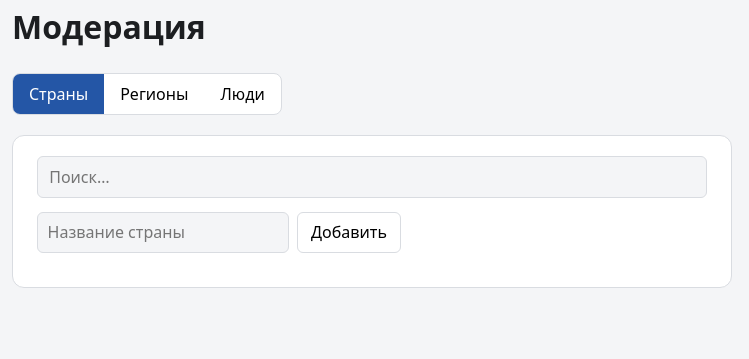
Scenario: Moderation page › switches to the persons tab and loads persons
Click the tab "Люди".
click(243, 94)  # box top-left (204, 74), bottom-right (281, 114)
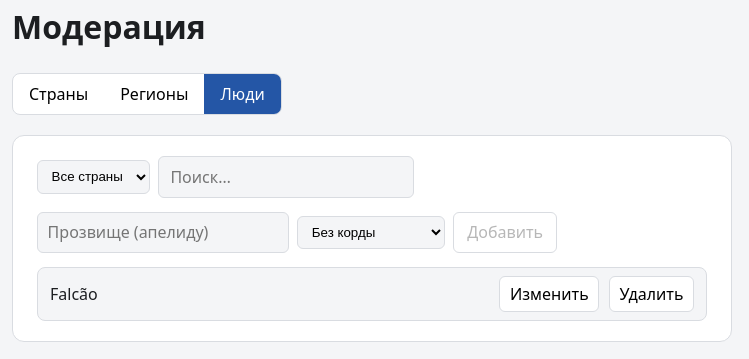
Check: the text "Falcão" is shown, box top-left (50, 282), bottom-right (98, 306)
